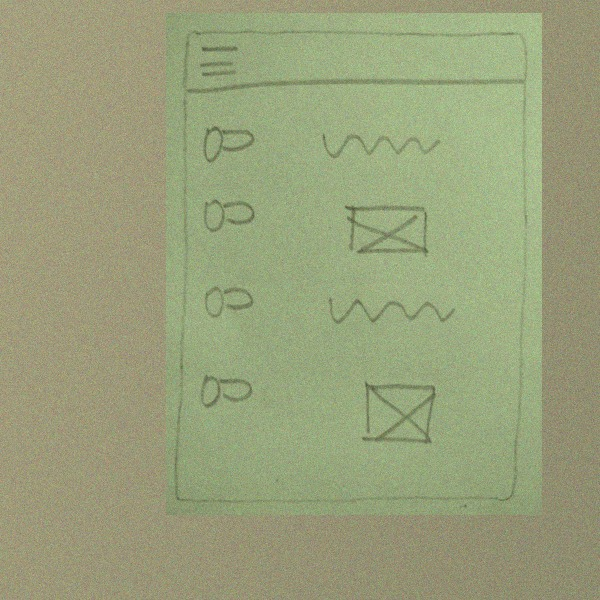image: (343, 194, 430, 262), (353, 378, 440, 446)
switch: (199, 190, 260, 234), (195, 371, 256, 415), (199, 122, 260, 165), (199, 280, 260, 323)
text: (317, 127, 451, 167), (322, 291, 456, 331)
